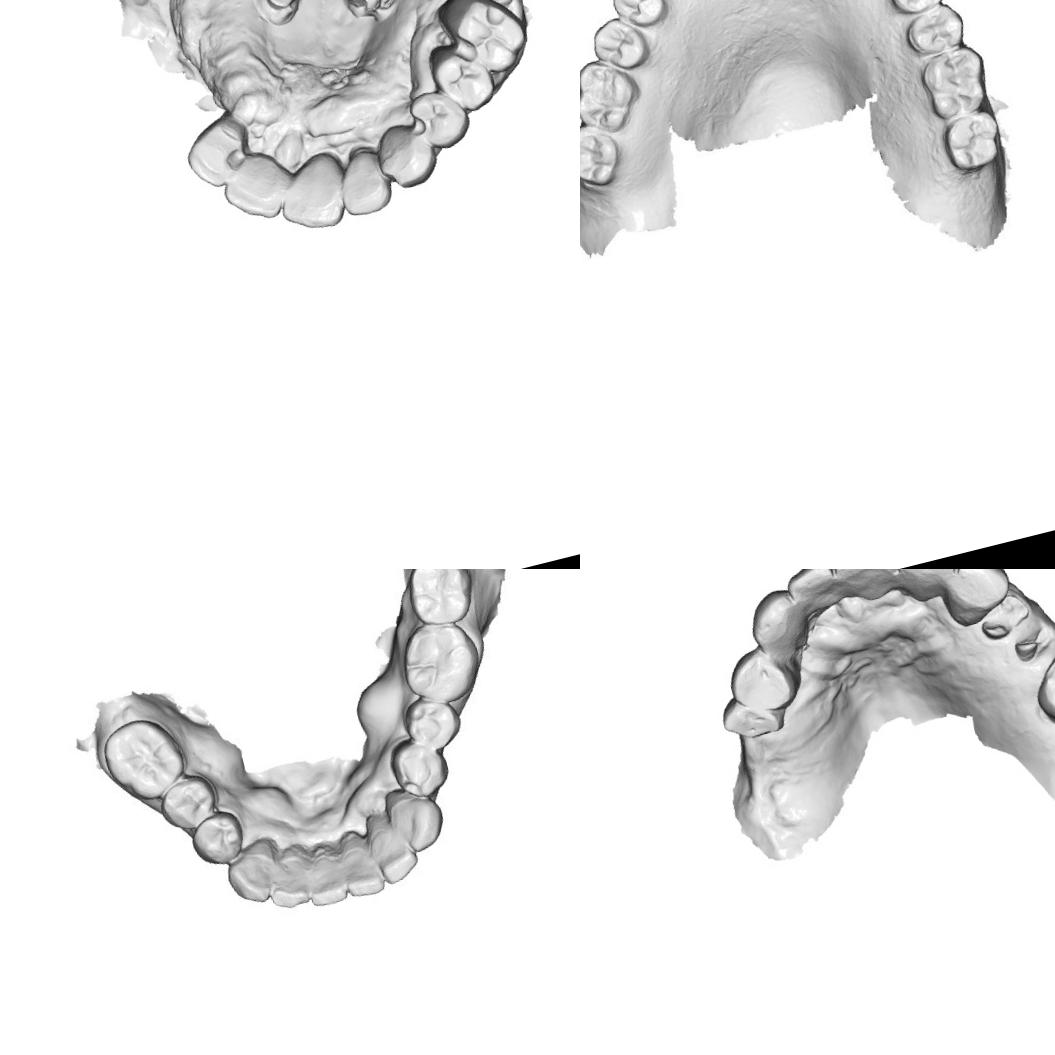canine: (740, 582, 815, 666), (369, 115, 444, 195), (381, 780, 448, 860), (935, 569, 1019, 631), (219, 839, 284, 910)
incisor: (269, 157, 349, 239), (178, 114, 256, 194), (216, 154, 292, 229), (332, 146, 398, 220), (780, 569, 858, 628), (366, 810, 426, 886), (886, 569, 972, 618), (261, 843, 317, 912), (337, 831, 387, 900), (299, 843, 352, 908), (825, 569, 905, 611)
molar: (429, 0, 535, 87), (395, 611, 486, 712), (101, 717, 186, 804), (918, 40, 994, 124), (580, 53, 648, 141), (396, 569, 479, 632), (943, 109, 1006, 178), (580, 119, 630, 190), (1028, 634, 1055, 739)
premolar: (720, 638, 803, 721), (425, 36, 500, 121), (404, 80, 476, 156), (396, 688, 464, 757), (389, 732, 456, 802), (587, 11, 651, 74), (904, 0, 971, 57), (190, 810, 249, 868), (158, 774, 218, 830), (607, 0, 669, 34), (887, 0, 951, 15)
